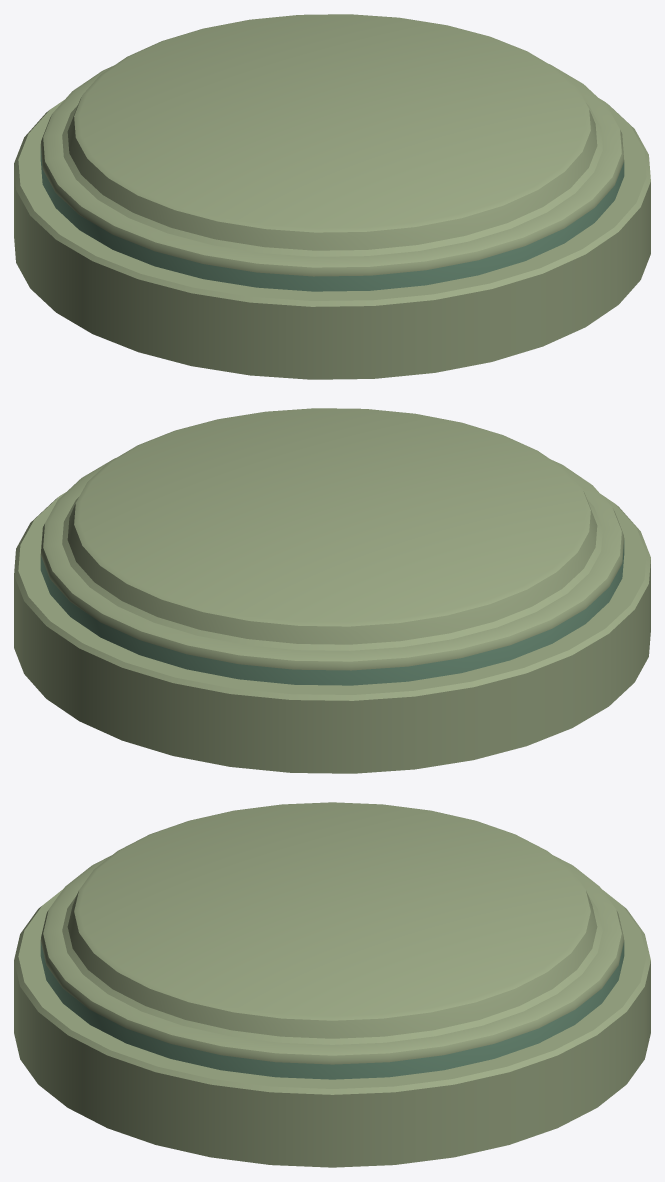
The model's file is context 2 STATUE BAASEEE.fbx.
3 renders of one model, top to bottom at view 1: azimuth 30°, elevation 25°; view 2: azimuth 150°, elevation 25°; view 3: azimuth 270°, elevation 25°, orthographic.
Visible parts, largest first — view 1: statue base; view 2: statue base; view 3: statue base.
Boxes of the visible parts, x1,y1,x2,y2 form: statue base: (14, 14, 650, 379); statue base: (14, 408, 650, 773); statue base: (14, 802, 650, 1167).
Size of the model in its own units: 0.0663 by 0.0142 by 0.0663.
